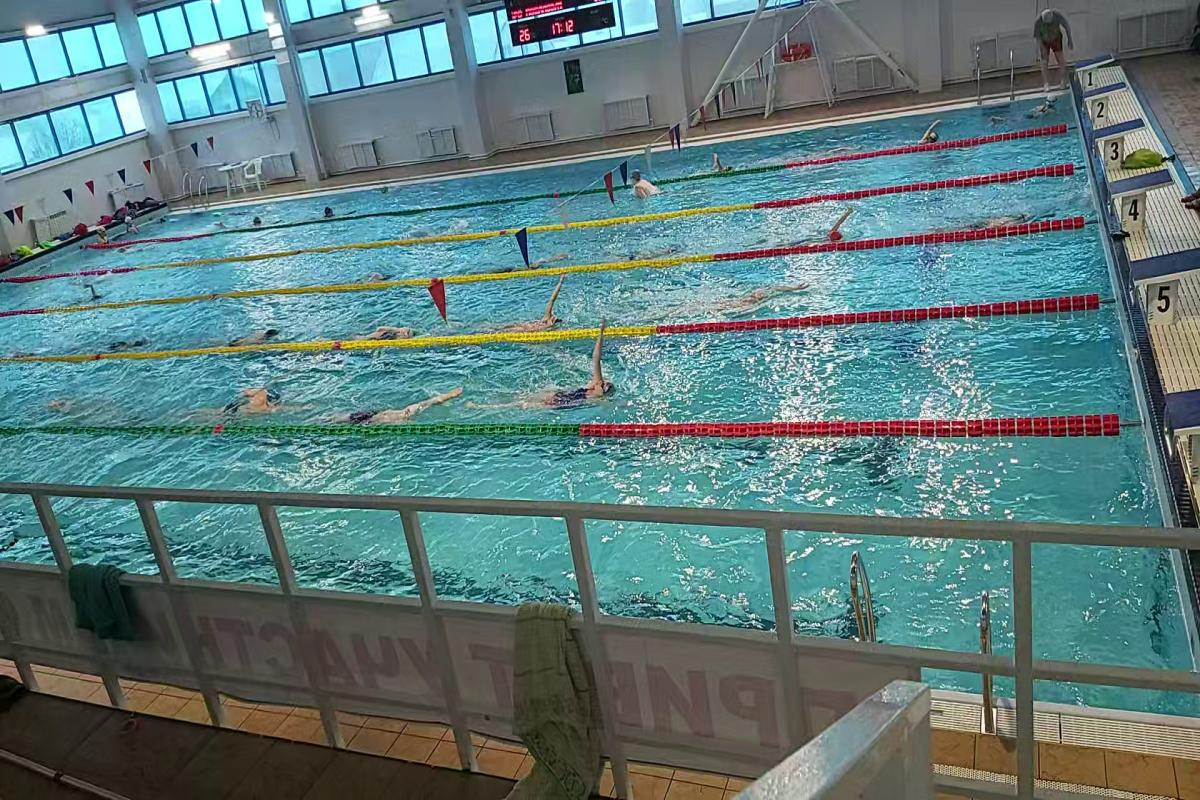swimmer: (516, 344, 624, 410), (686, 268, 824, 314), (214, 382, 312, 425), (346, 384, 468, 418), (501, 281, 573, 332), (344, 314, 430, 342), (796, 210, 866, 242), (232, 310, 287, 344), (631, 172, 664, 198)
